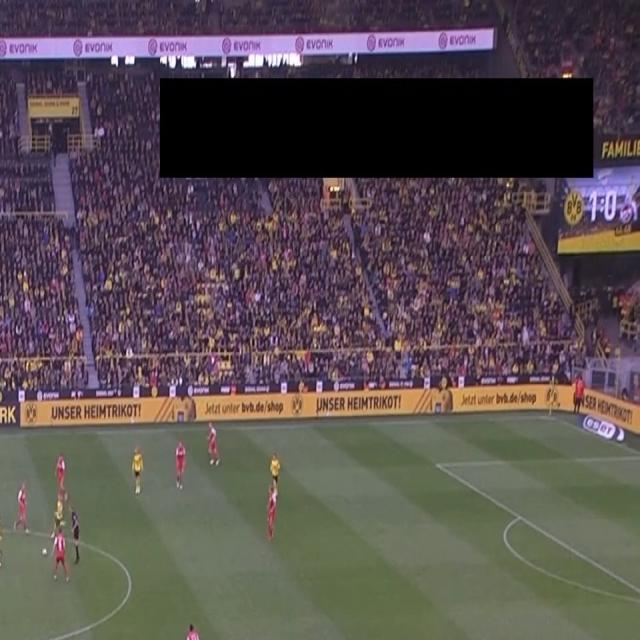ball: (42, 546, 48, 558)
